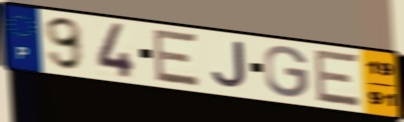4: (95, 20, 138, 80)
9: (41, 16, 87, 72)
E: (152, 27, 202, 89), (313, 48, 363, 109)
G: (263, 44, 311, 99)
J: (209, 40, 248, 91)
